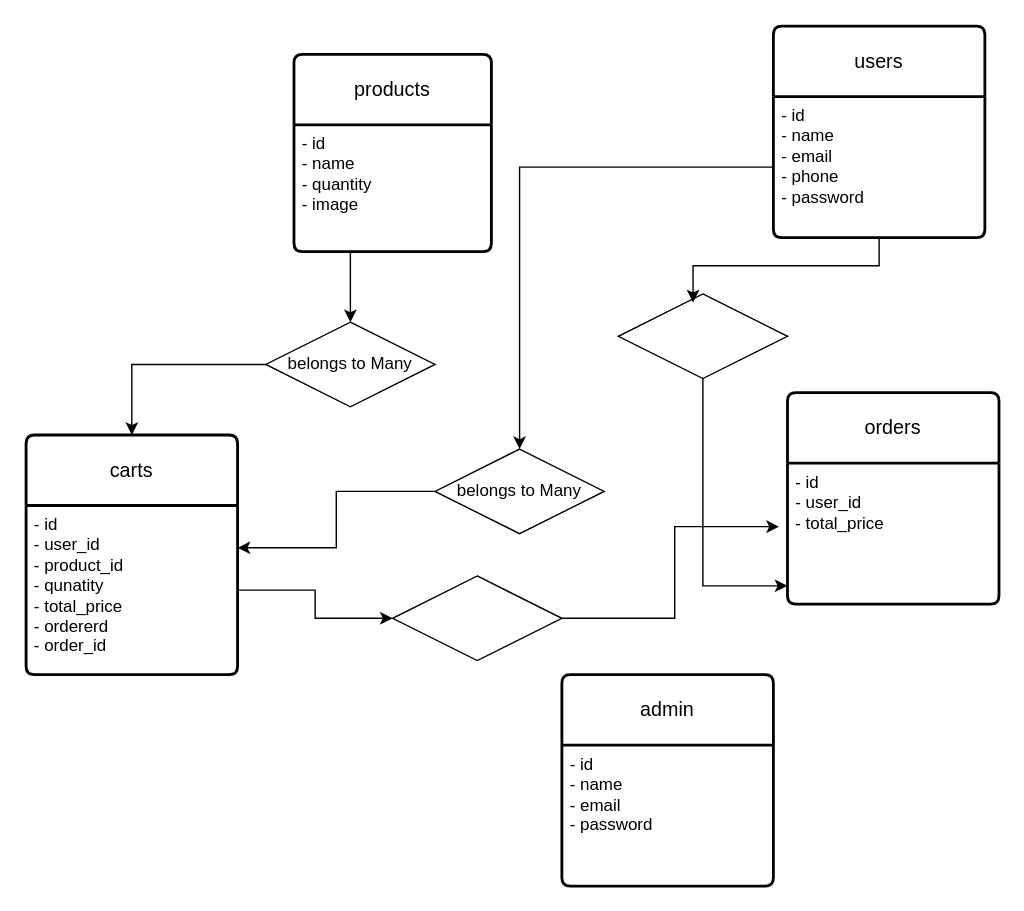
The diagram is 1024 pixels wide and 911 high, and some of its shapes have lost their labels. The shapes that lost their labels are listed below. From the top down, each one's centre as x and y in pixels, then its label:
At point 702,336: "has Many".
At point 476,618: "belongs to".
